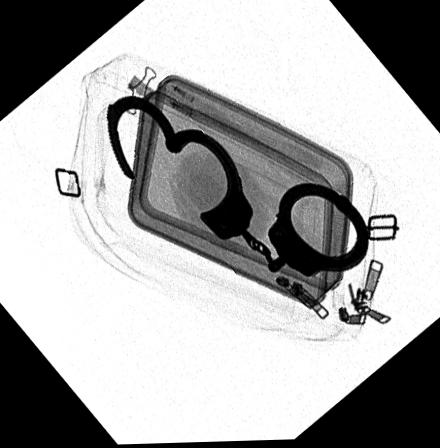HandCuffs: (105, 94, 370, 279)
